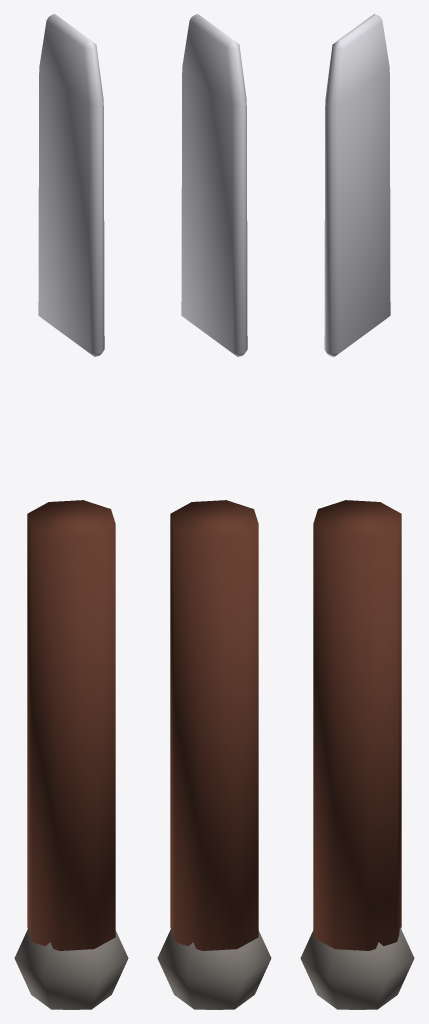
File: throwing_knife.glb
3 renders of one model, left to right at view 1: azimuth 30°, elevation 25°; view 2: azimuth 210°, elevation 25°; view 3: azimuth 330°, elevation 25°, orthographic.
Visible parts, largest first — view 1: throwing_knife; view 2: throwing_knife; view 3: throwing_knife.
Part boxes in pixels (left/top/right/bottom): throwing_knife: left=14, top=14, right=128, bottom=1009; throwing_knife: left=157, top=14, right=271, bottom=1009; throwing_knife: left=300, top=14, right=414, bottom=1009.
Bounding box in the file's own units: 0.0173 × 0.19 × 0.02.
3 materials, 1 textured.
